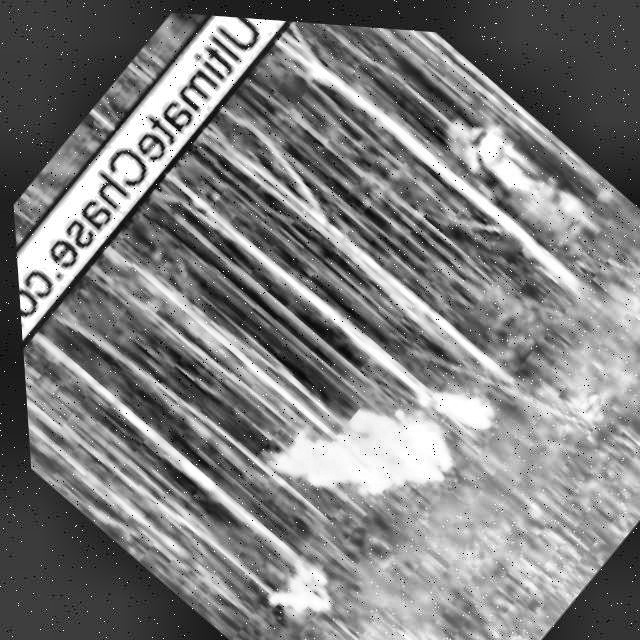Fire: (251, 344, 463, 557), (406, 355, 507, 454), (254, 549, 342, 640)
